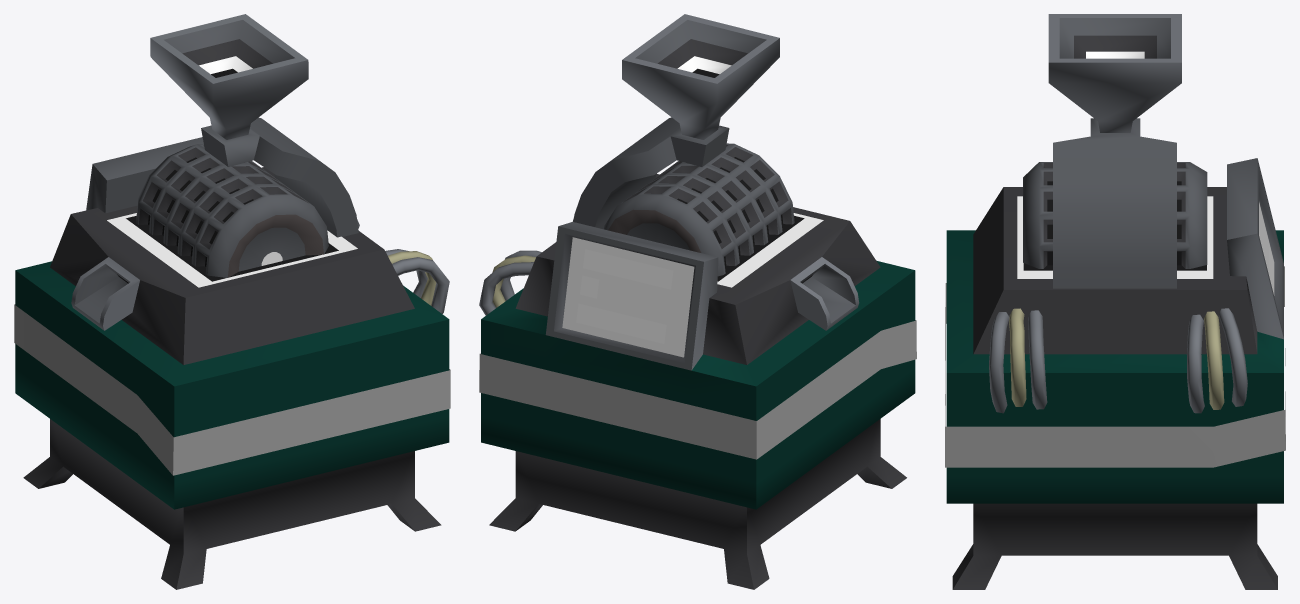
Rendered from SeedProcessor.fbx.
3 views of the same model, side by side, from view 1: azimuth 30°, elevation 25°; view 2: azimuth 150°, elevation 25°; view 3: azimuth 270°, elevation 25° (orthographic). The views are drawn at different scales.
Parts seen in each view (by area): view 1: SeedProcessor, SeedProcessorWheel; view 2: SeedProcessor, SeedProcessorWheel; view 3: SeedProcessor, SeedProcessorWheel.
Part boxes in pixels (x1,y1,x2,y2): SeedProcessor: (14, 14, 450, 589); SeedProcessorWheel: (136, 144, 328, 277); SeedProcessor: (479, 14, 916, 589); SeedProcessorWheel: (604, 143, 794, 276); SeedProcessor: (945, 14, 1285, 589); SeedProcessorWheel: (1023, 162, 1207, 268).
Bounding box in the file's own units: 0.9624 × 1.35 × 0.8672.
